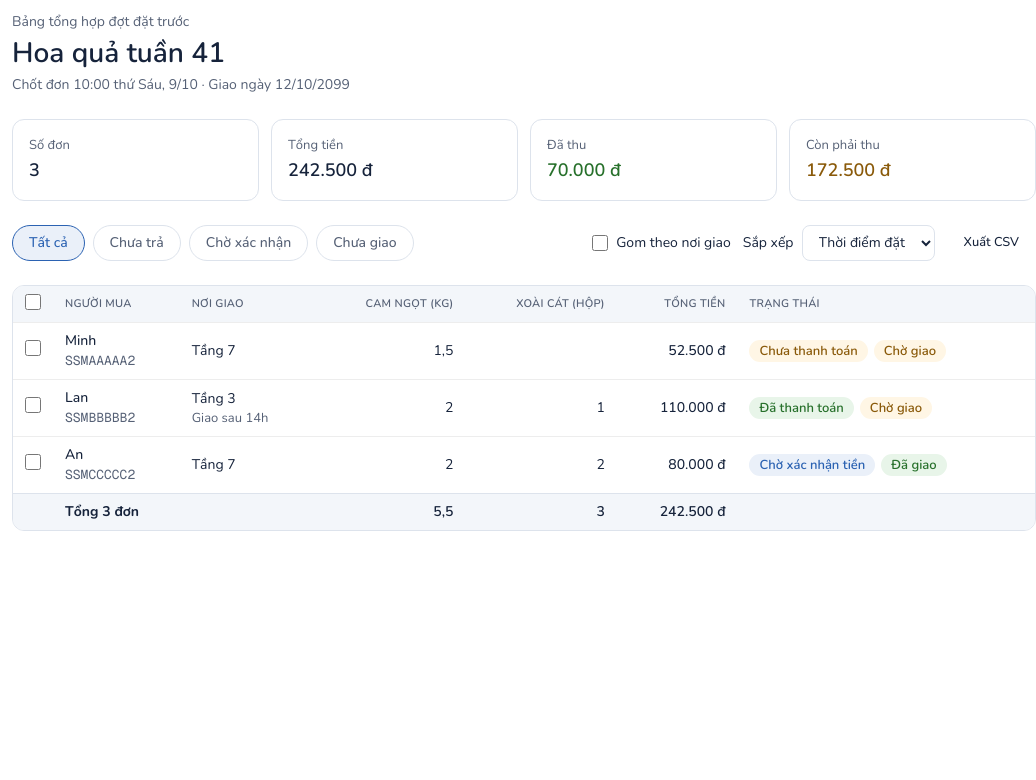
Test: CampaignSummary › groups by delivery location with a subtotal per group
Expected: the row "Minh SSMAAAAA2 Tầng 7 1,5 52.500 đ Chưa thanh toán Chờ giao" is shown, [13, 323, 1035, 380]
Click the checkbox labelled "Gom theo nơi giao" at (600, 242), box [592, 234, 608, 250]
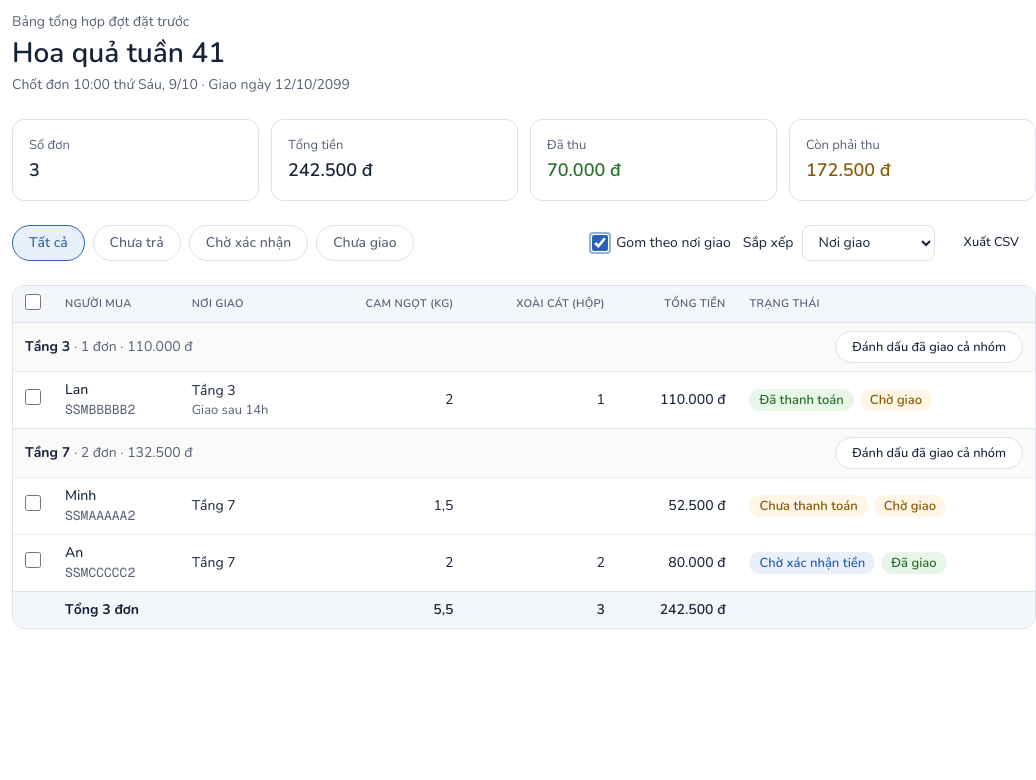
Expected: the row "Tầng 7 · 2 đơn · 132.500 đ Đánh dấu đã giao cả nhóm" is shown, [13, 429, 1035, 478]
